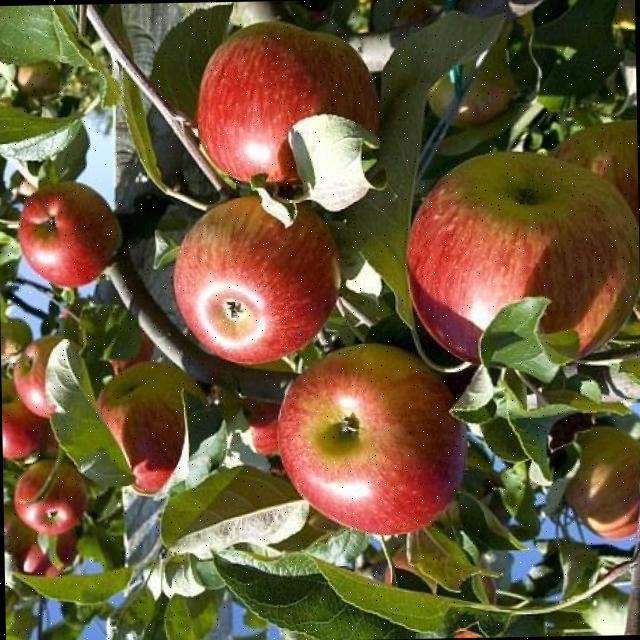Apel: (405, 148, 640, 368), (275, 342, 470, 538), (195, 18, 382, 195), (172, 194, 344, 366), (549, 120, 640, 330), (96, 360, 214, 498), (17, 177, 124, 290), (426, 18, 518, 128), (564, 425, 640, 540), (120, 391, 189, 497), (13, 458, 88, 536), (13, 334, 70, 420), (2, 376, 50, 464), (244, 398, 282, 458), (108, 332, 157, 376), (1, 318, 34, 367), (612, 0, 635, 31)
